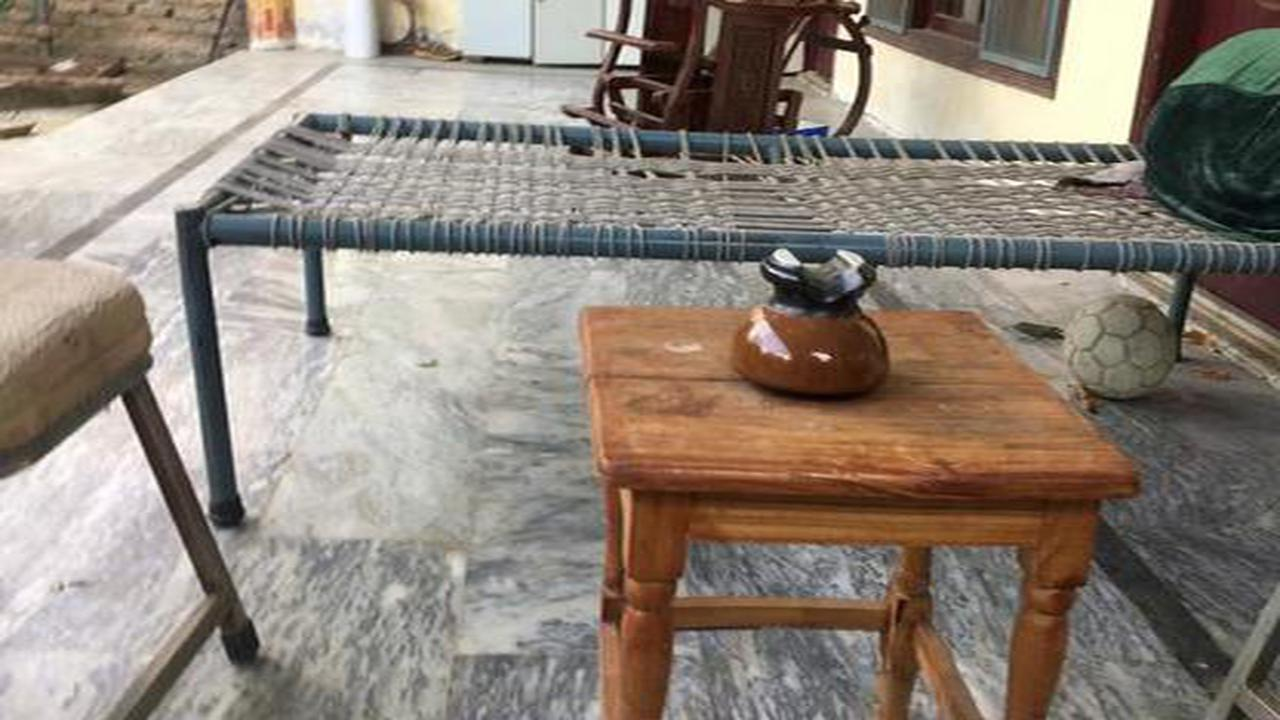insulator_pin: (721, 224, 917, 402)
